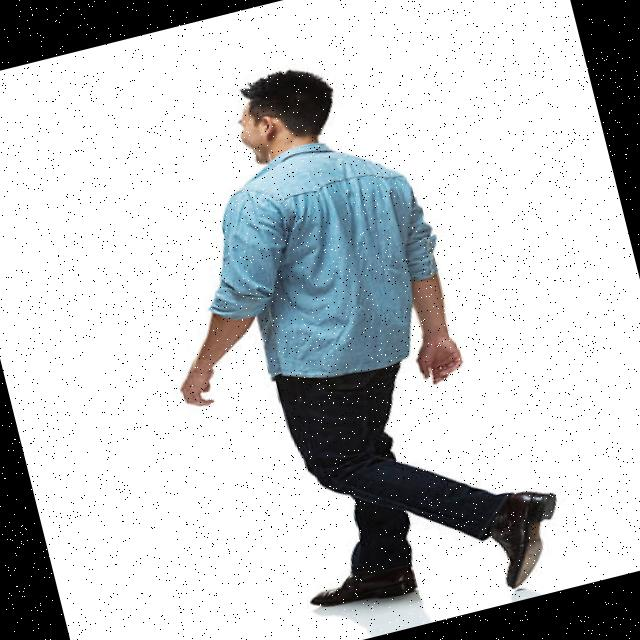Person: (112, 32, 573, 640)
